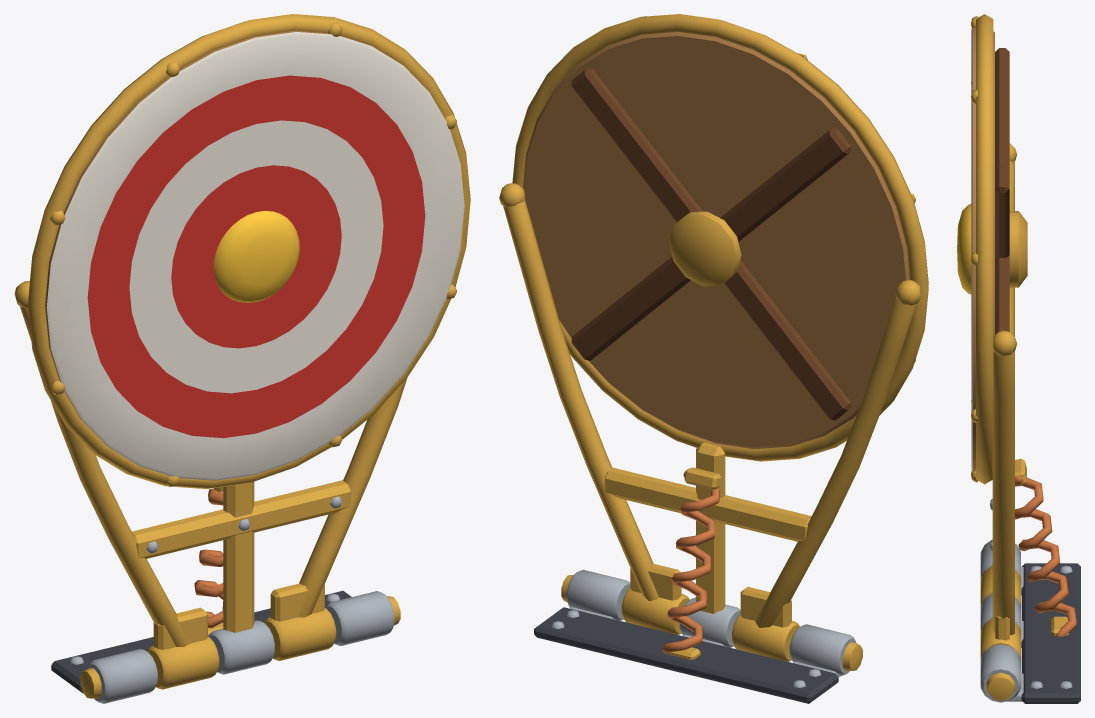
File: prop_target.glb
3 views of the same model, side by side, from view 1: azimuth 30°, elevation 25°; view 2: azimuth 150°, elevation 25°; view 3: azimuth 270°, elevation 25° (orthographic). The views are drawn at different scales.
Parts seen in each view (by area): view 1: Target; view 2: Target; view 3: Target.
Boxes of the visible parts, x1,y1,x2,y2 form: Target: [14, 14, 470, 703]; Target: [499, 14, 928, 703]; Target: [957, 14, 1080, 703].
Size of what is drawn, in the model's own units: 1.6 by 2.24 by 0.418.
